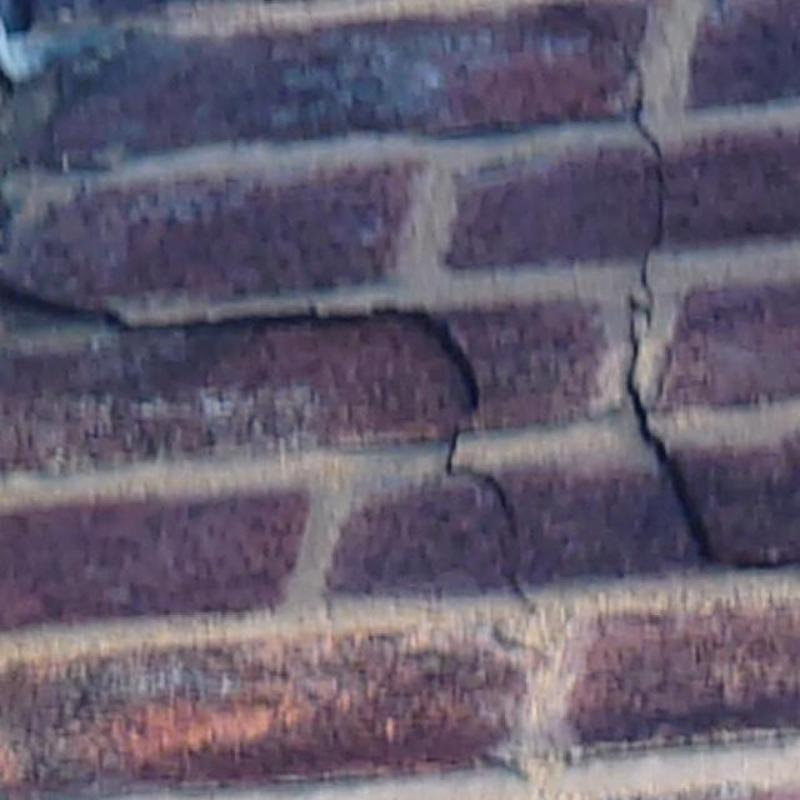crack: (625, 52, 709, 561), (102, 303, 478, 412), (445, 428, 525, 600), (0, 286, 81, 312)
